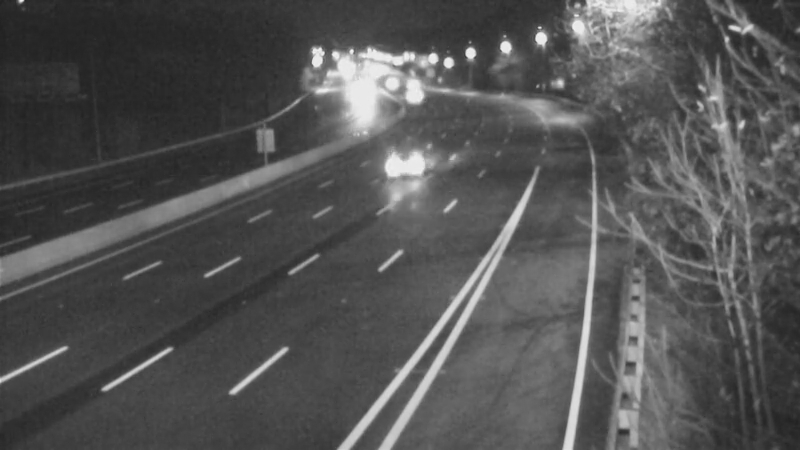vehicle: (368, 122, 448, 202), (385, 60, 435, 110), (368, 59, 418, 109), (389, 72, 439, 122), (338, 70, 388, 120)
